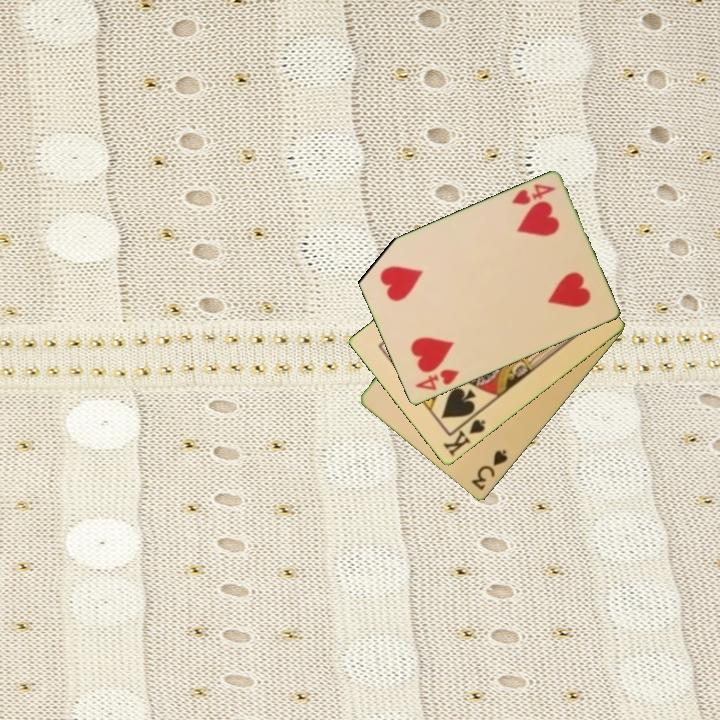3s: (468, 446, 511, 494)
4h: (411, 366, 462, 394), (508, 181, 558, 208)
Ks: (439, 410, 488, 460)
